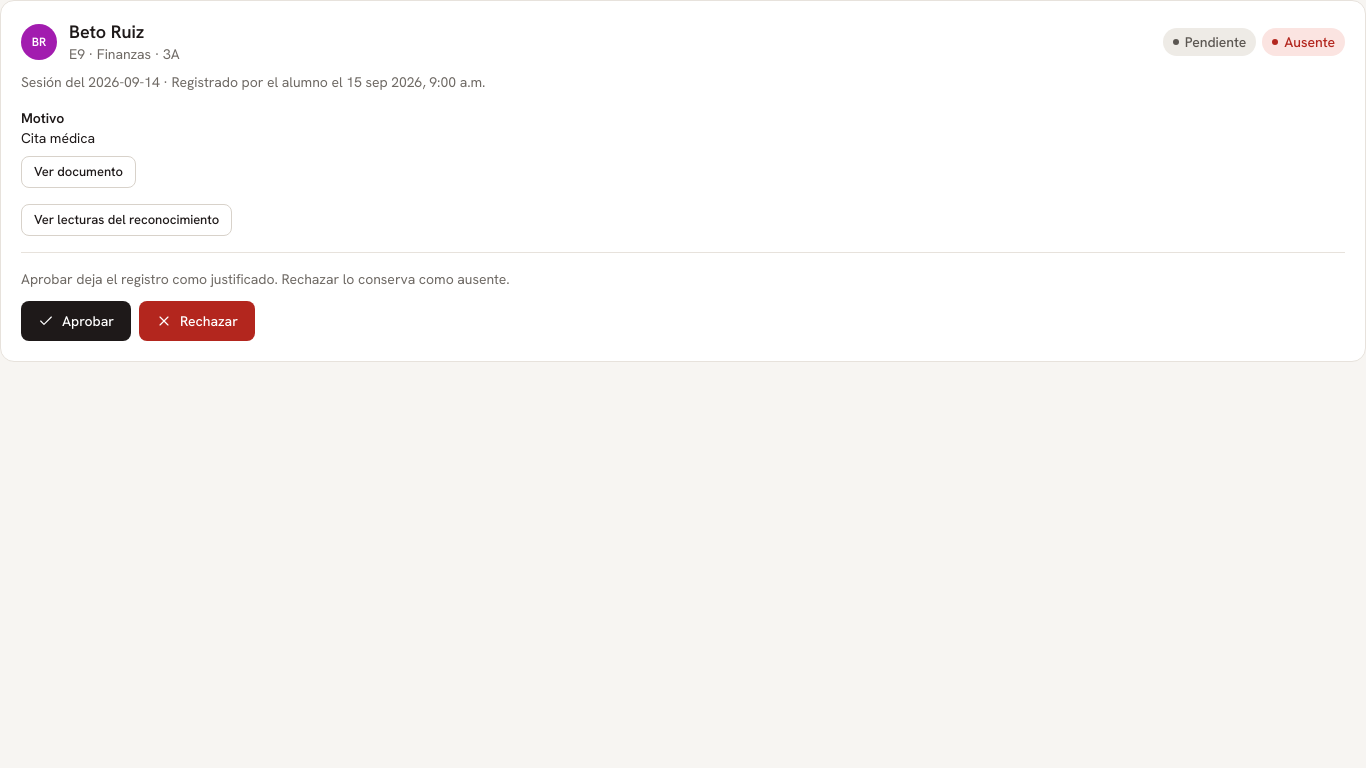
Test: JustificanteCard › el comentario ya no se escribe suelto en la tarjeta: vive dentro del diálogo de cada decisión
This screenshot has width=1366, height=768.
Click the button "Aprobar". click: (76, 320)
box: [21,300,131,340]
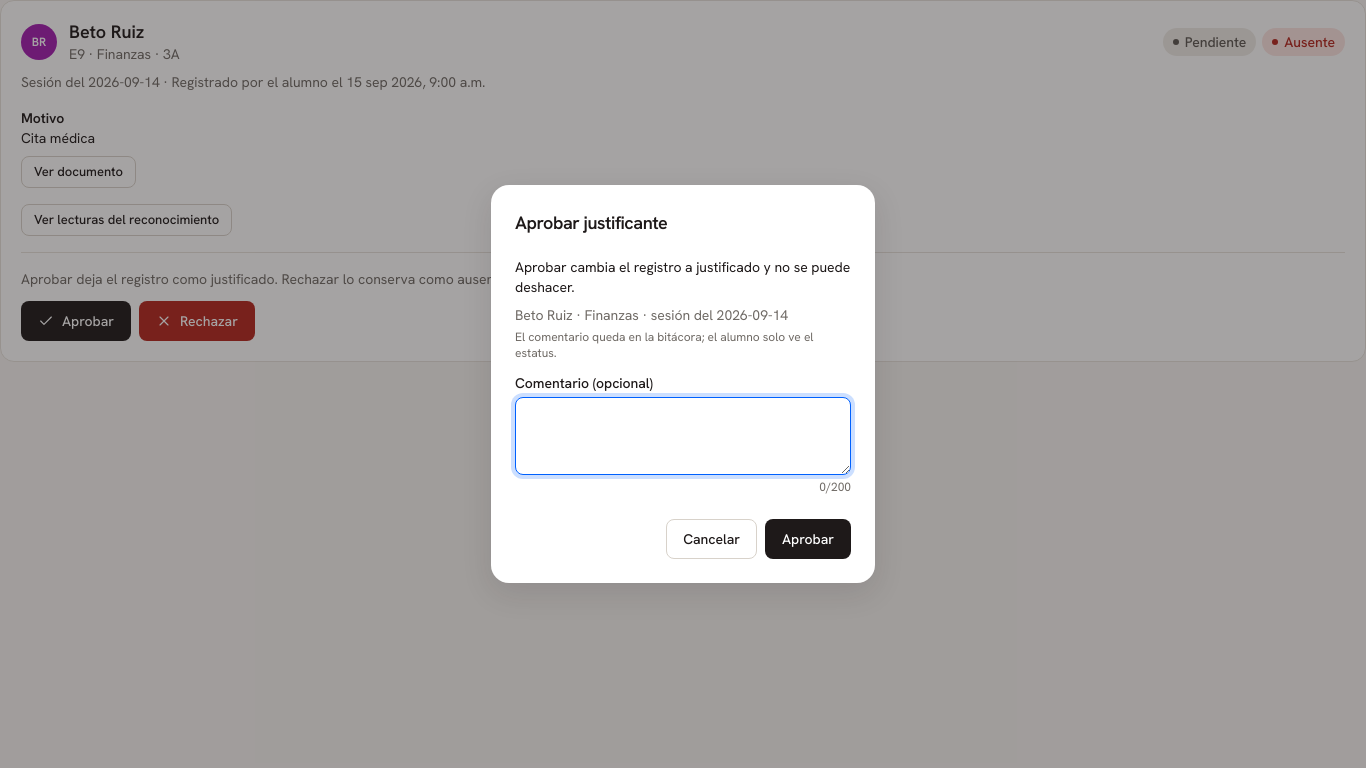
Result: the text box labelled "Comentario (opcional)" is shown at [515,397,851,475]
Result: the text "Beto Ruiz · Finanzas · sesión del 2026-09-14" is shown at [515,306,788,324]
